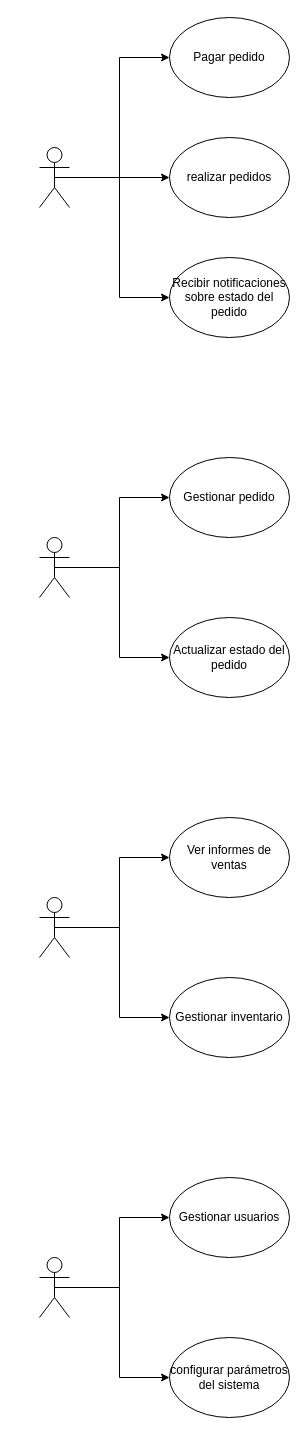
Some shapes in this 307 by 1435 pixel diagram are drawn without their labels. Here are the shapes that lost their labels. From the top down, the centre of each, then its label:
At pixel 54 177: "cliente".
At pixel 54 567: "Empleado".
At pixel 54 927: "Gerente".
At pixel 54 1287: "Administrador".
